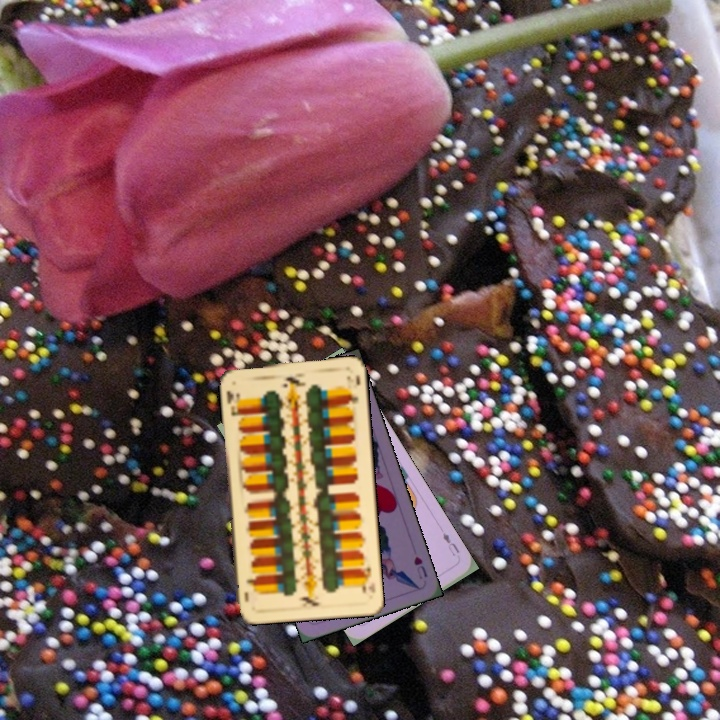E10: (223, 387, 244, 419), (357, 563, 373, 597)
EU: (439, 529, 462, 559)
HU: (410, 552, 430, 582)
